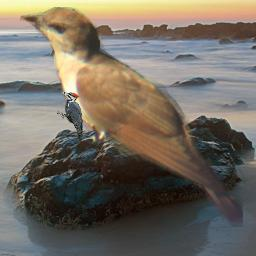Cuckoo: (20, 7, 243, 227)
Woodpecker: (57, 91, 85, 142)
